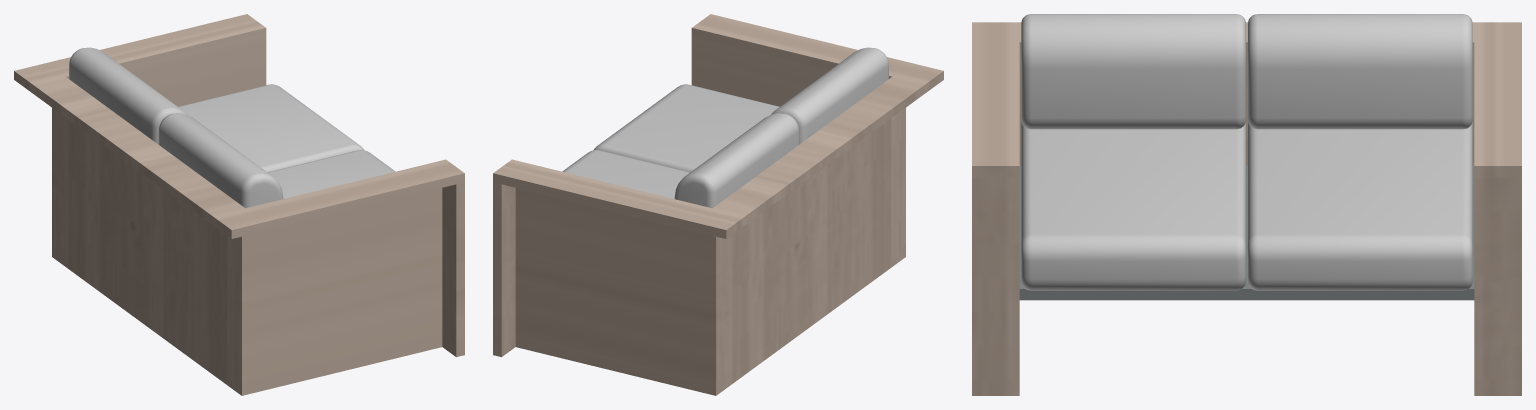
The model's file is sofa-var-3.glb.
3 renders of one model, left to right at view 1: azimuth 30°, elevation 25°; view 2: azimuth 150°, elevation 25°; view 3: azimuth 270°, elevation 25°, orthographic. The views are drawn at different scales.
Visible parts, largest first — view 1: ソファ 4, ソファ, ソファ 5, ソファ 6, ソファ 2; view 2: ソファ 4, ソファ 2, ソファ 6, ソファ 5, ソファ; view 3: ソファ 4, ソファ, ソファ 2, ソファ 5, ソファ 6, ソファ 3.
Part boxes in pixels (x1,y1,x2,y2): ソファ 4: (14, 14, 464, 395); ソファ: (178, 84, 364, 172); ソファ 5: (158, 113, 283, 208); ソファ 6: (69, 47, 186, 144); ソファ 2: (268, 150, 395, 198); ソファ 4: (493, 14, 943, 395); ソファ 2: (593, 84, 779, 172); ソファ 6: (674, 113, 799, 208); ソファ 5: (771, 47, 888, 144); ソファ: (562, 150, 689, 198); ソファ 4: (972, 22, 1521, 395); ソファ: (1248, 121, 1472, 290); ソファ 2: (1021, 121, 1245, 290); ソファ 5: (1021, 14, 1245, 129); ソファ 6: (1248, 14, 1472, 129); ソファ 3: (1019, 165, 1474, 300).
Size of the model in its own units: 18.22 by 14.8 by 27.81.
3 materials, 1 textured.
